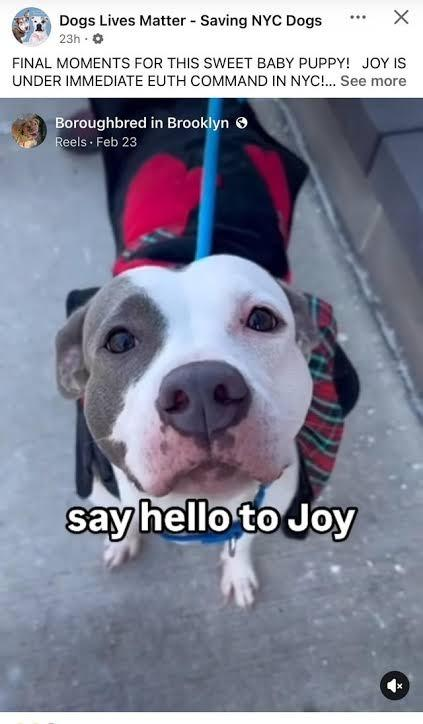adult_dog: (53, 248, 364, 607)
